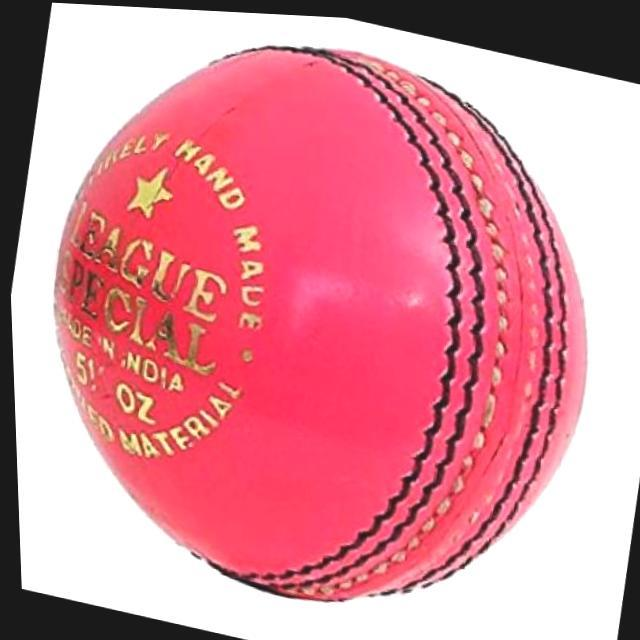-: (14, 1, 637, 640)
